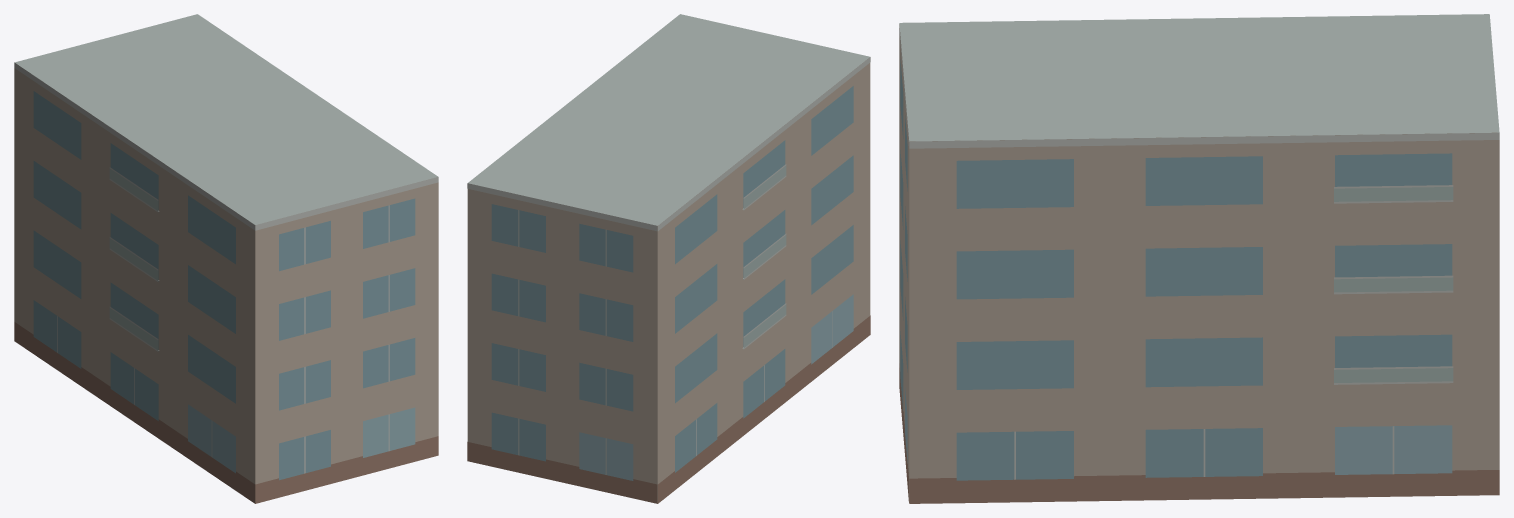
The model's file is residential-4736b2ad-53dd-451a-ad59-02b44626671a.glb.
3 views of the same model, side by side, from view 1: azimuth 30°, elevation 25°; view 2: azimuth 150°, elevation 25°; view 3: azimuth 270°, elevation 25° (orthographic). The views are drawn at different scales.
Visible parts, largest first — view 1: residential-4736b2ad-53dd-451a-ad59-02b44626671a.tmp; view 2: residential-4736b2ad-53dd-451a-ad59-02b44626671a.tmp; view 3: residential-4736b2ad-53dd-451a-ad59-02b44626671a.tmp.
Boxes of the visible parts, box(x1,y1,x2,y2) form: residential-4736b2ad-53dd-451a-ad59-02b44626671a.tmp: box(14, 14, 438, 503); residential-4736b2ad-53dd-451a-ad59-02b44626671a.tmp: box(467, 14, 870, 503); residential-4736b2ad-53dd-451a-ad59-02b44626671a.tmp: box(899, 14, 1499, 503).
Size of the model in its own units: 9.21 by 12.2 by 18.32.
